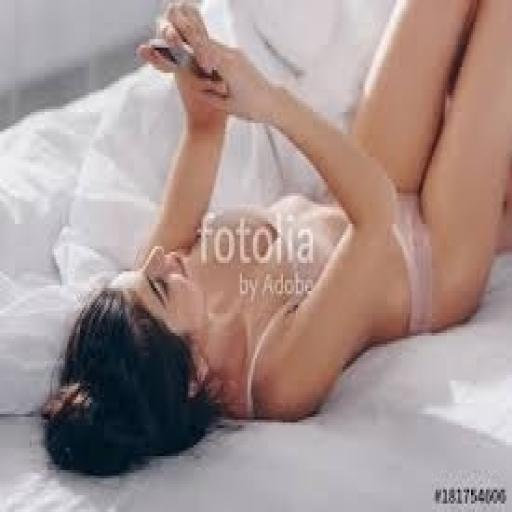texting: (37, 0, 510, 478)
